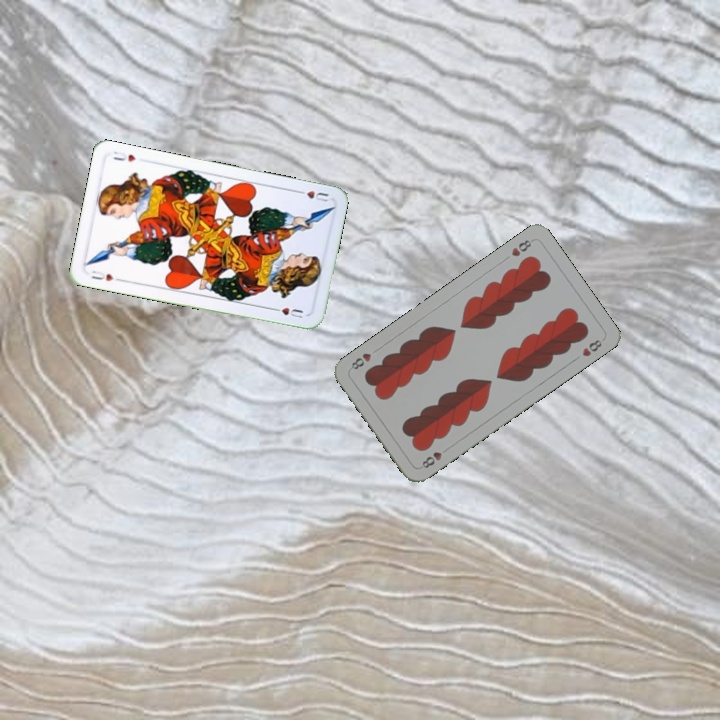H8: (507, 235, 536, 259), (418, 447, 445, 471)
HU: (292, 186, 331, 204), (87, 266, 124, 284)
